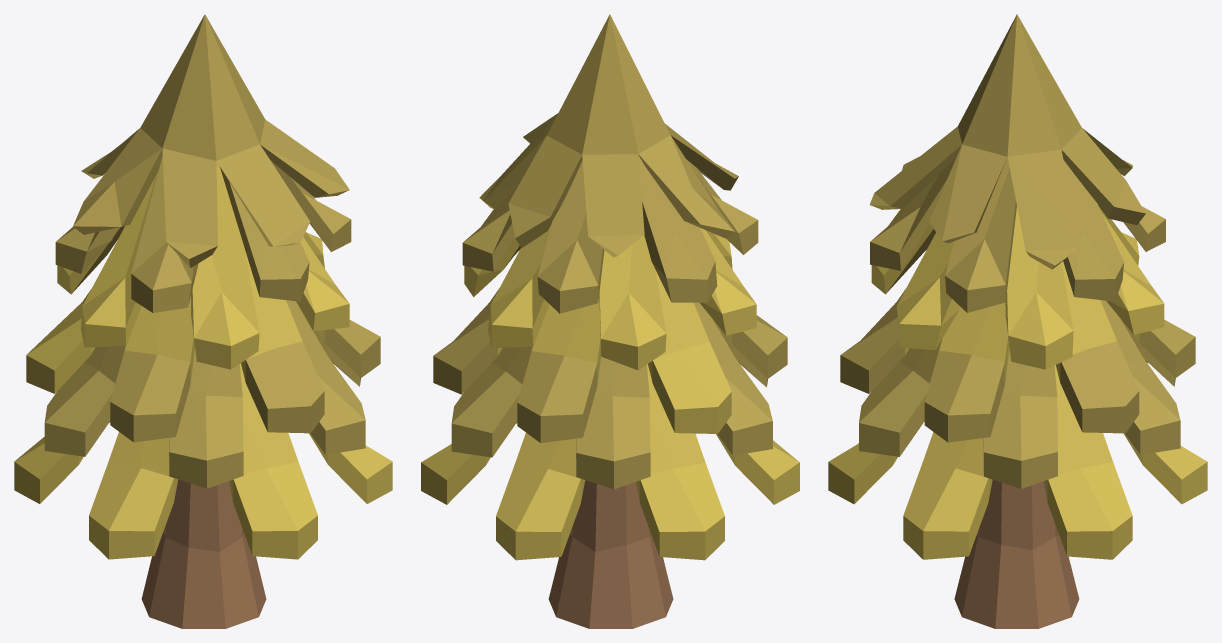
The model's file is TreePine_02.glb.
3 renders of one model, left to right at view 1: azimuth 30°, elevation 25°; view 2: azimuth 150°, elevation 25°; view 3: azimuth 270°, elevation 25°, orthographic.
Parts seen in each view (by area): view 1: TreePine_02; view 2: TreePine_02; view 3: TreePine_02.
Part boxes in pixels (box(x1,y1,x2,y2)): TreePine_02: box(14, 14, 392, 628); TreePine_02: box(421, 14, 799, 628); TreePine_02: box(828, 14, 1207, 628).
Size of what is drawn, in the model's own units: 3.26 by 5.71 by 3.32.
Materials: 1 (1 with a texture image).
